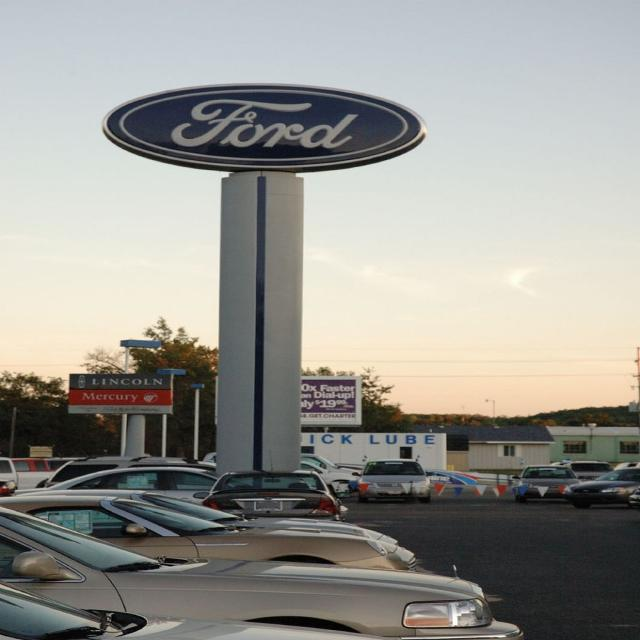ford: (104, 82, 428, 173)
